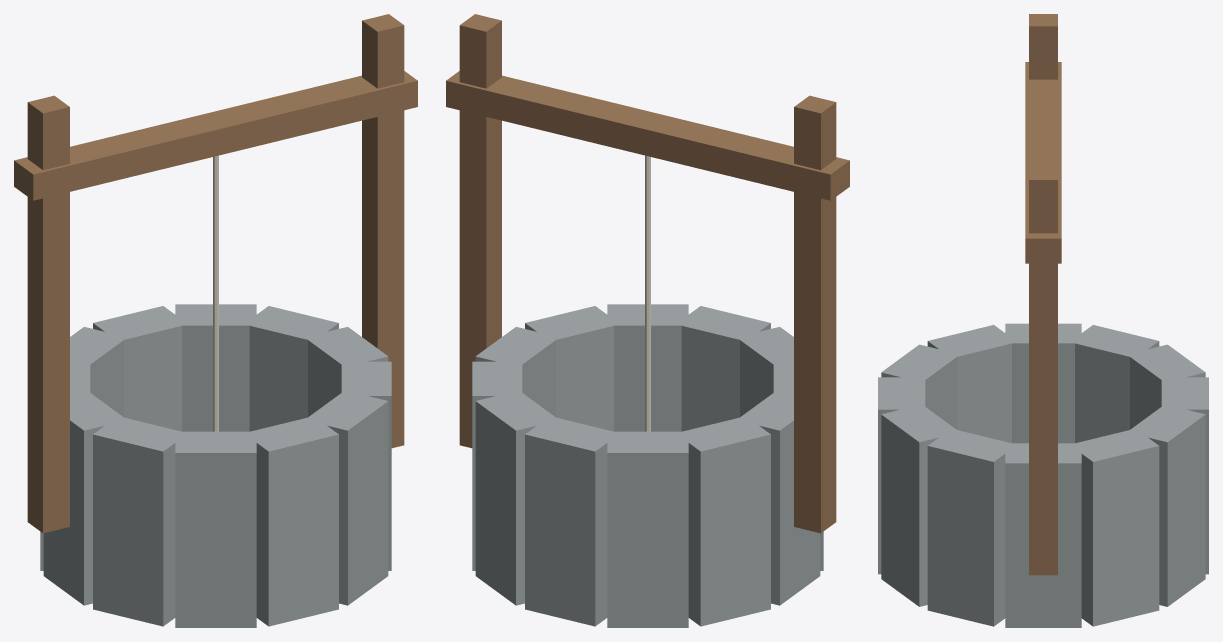
The model's file is well_damaged.glb.
3 renders of one model, left to right at view 1: azimuth 30°, elevation 25°; view 2: azimuth 150°, elevation 25°; view 3: azimuth 270°, elevation 25°, orthographic. The views are drawn at different scales.
Parts seen in each view (by area): view 1: well_damaged; view 2: well_damaged; view 3: well_damaged.
Part boxes in pixels (x1=…): well_damaged: x1=14, y1=14, x2=417, y2=627; well_damaged: x1=446, y1=14, x2=849, y2=627; well_damaged: x1=878, y1=14, x2=1208, y2=627.
Size of the model in its own units: 2.3 by 2.8 by 1.82.
